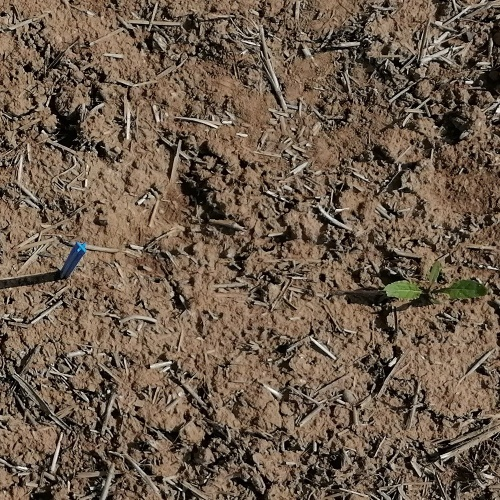beet: (381, 263, 487, 302)
